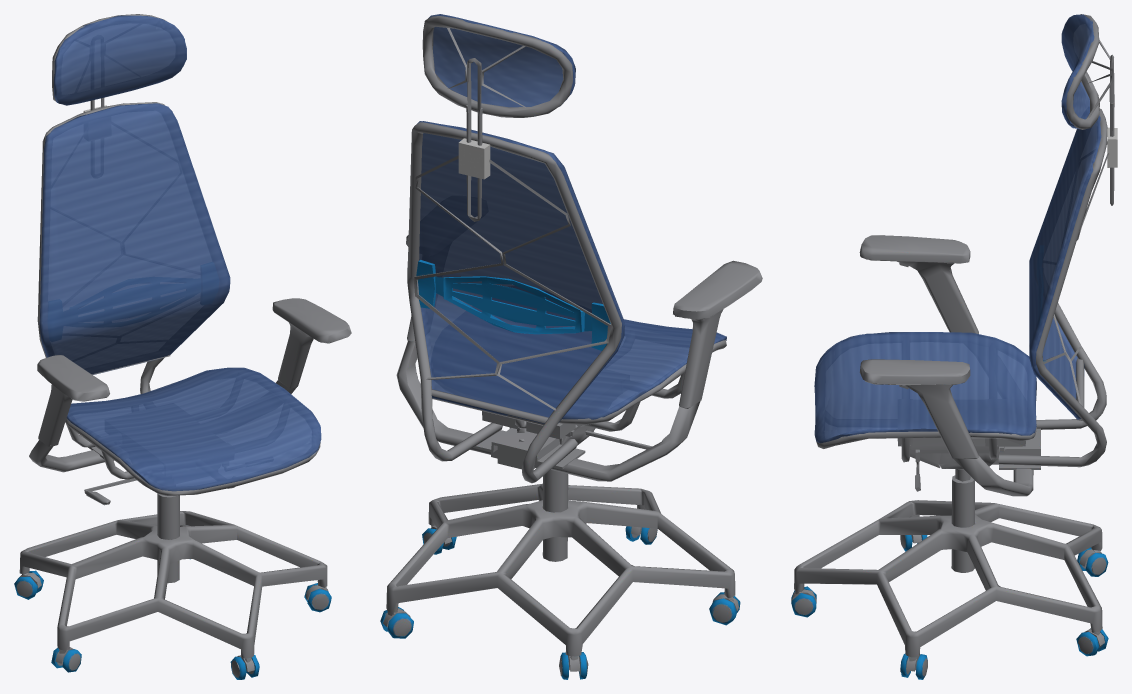
The model's file is styrspel_gaming_chair_blue_light_gray.glb.
The picture shows the model from 3 angles, left to right: view 1: azimuth 30°, elevation 25°; view 2: azimuth 150°, elevation 25°; view 3: azimuth 270°, elevation 25°; orthographic projection. The views are drawn at different scales.
Parts seen in each view (by area): view 1: Mesh_1, Mesh_0; view 2: Mesh_0, Mesh_1; view 3: Mesh_0, Mesh_1.
Part boxes in pixels (bbox=[...]): Mesh_1: bbox=[39, 15, 321, 491]; Mesh_0: bbox=[14, 14, 351, 679]; Mesh_0: bbox=[380, 16, 762, 679]; Mesh_1: bbox=[416, 14, 726, 423]; Mesh_0: bbox=[791, 14, 1117, 679]; Mesh_1: bbox=[814, 14, 1101, 443].
Size of the model in its own units: 0.7098 by 1.36 by 0.6898.
2 materials, 2 textured.
